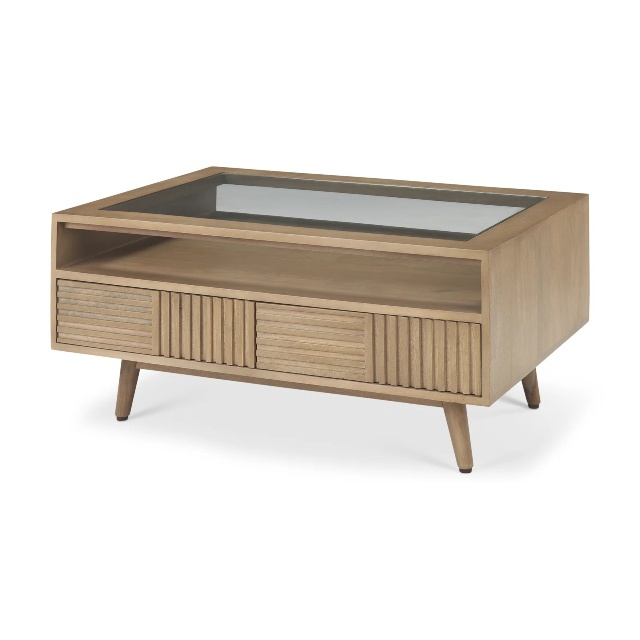obstacle: (52, 167, 588, 472)
